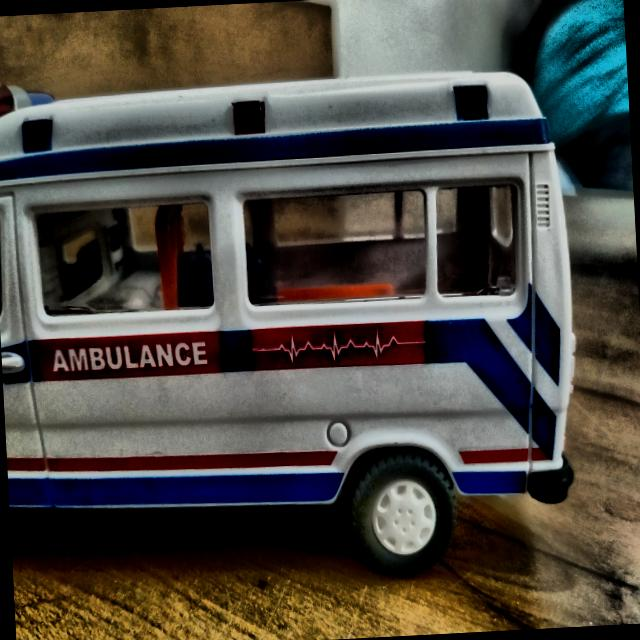Ambulance: (0, 34, 592, 602)
